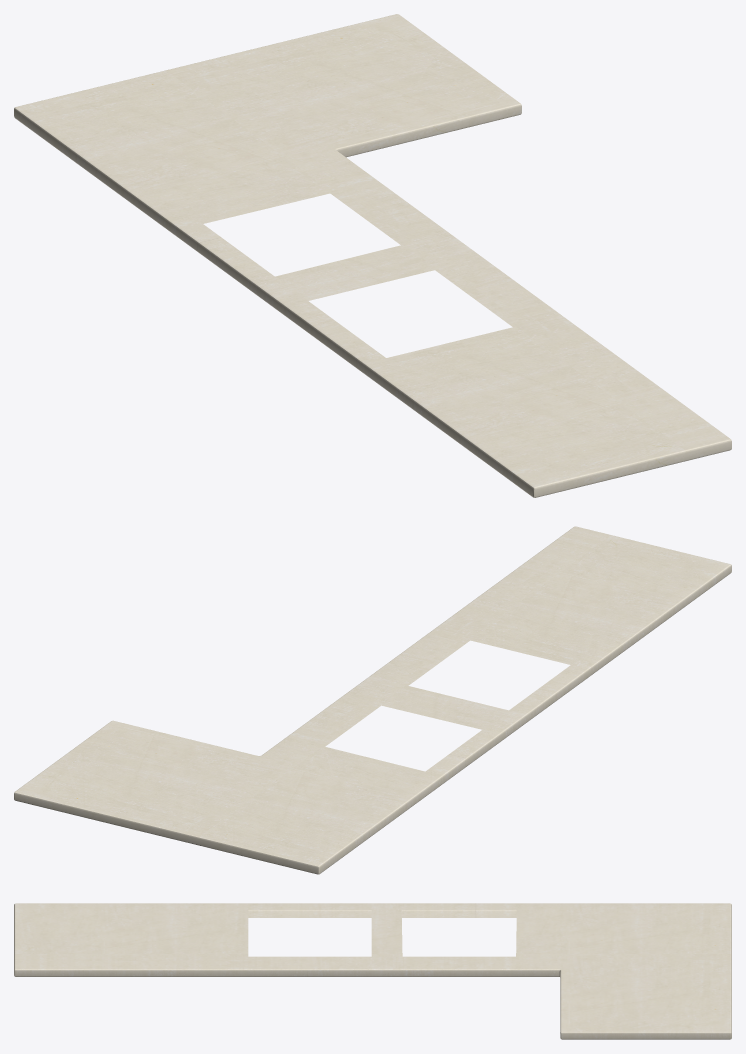
The model's file is Cabinet4.fbx.
The picture shows the model from 3 angles, top to bottom: view 1: azimuth 30°, elevation 25°; view 2: azimuth 150°, elevation 25°; view 3: azimuth 270°, elevation 25°; orthographic projection. The views are drawn at different scales.
Parts seen in each view (by area): view 1: polySurface1180; view 2: polySurface1180; view 3: polySurface1180.
Part boxes in pixels (x1,y1,x2,y2): polySurface1180: [14, 14, 731, 497]; polySurface1180: [14, 526, 731, 874]; polySurface1180: [14, 903, 731, 1039].
Bounding box in the file's own units: 1.24 × 0.035 × 2.9.
1 material, 1 textured.
